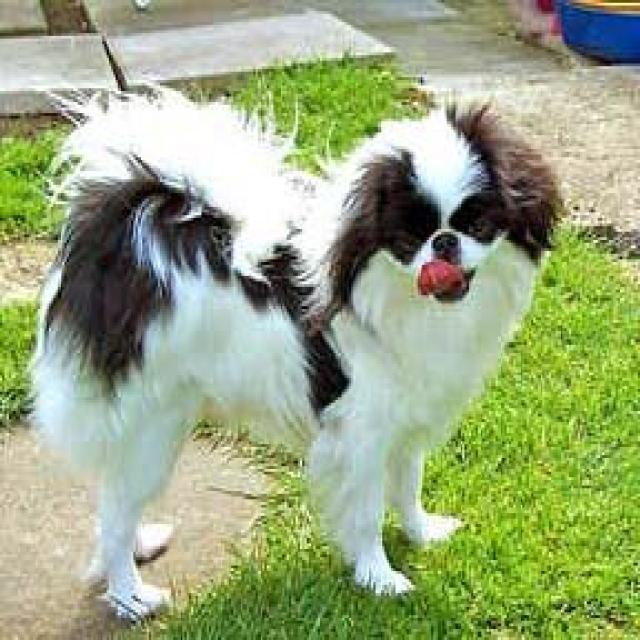husky: (34, 83, 562, 615)
